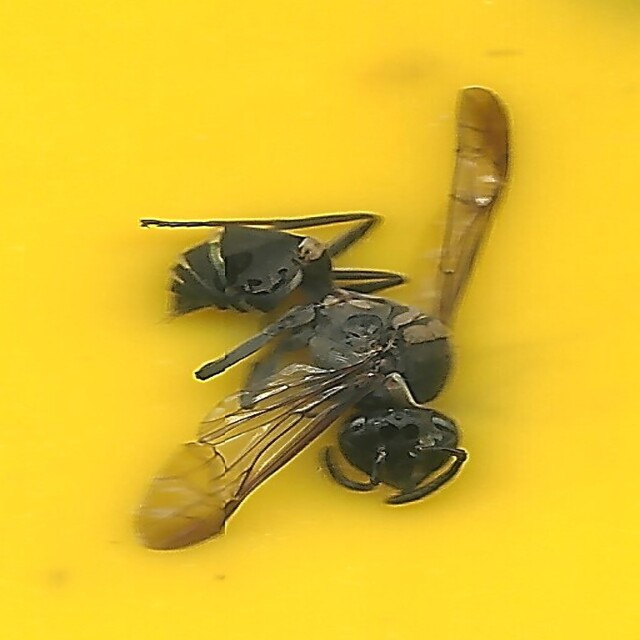Hymenoptera: (125, 87, 515, 553)
